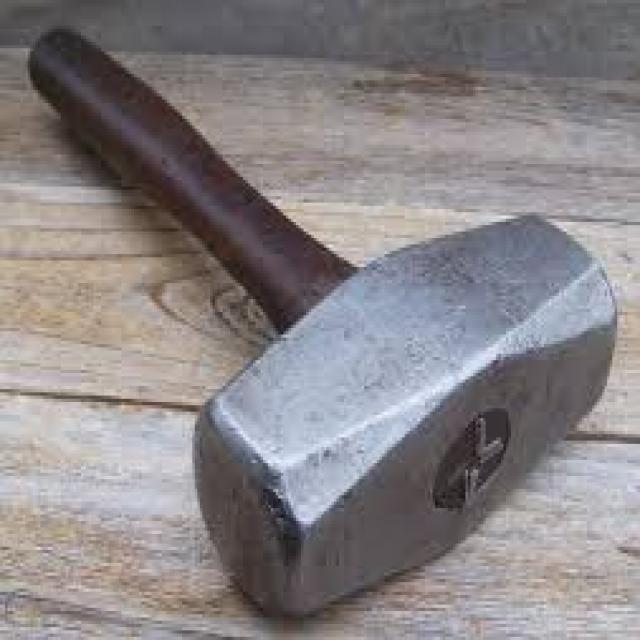hammer: (20, 19, 628, 624)
